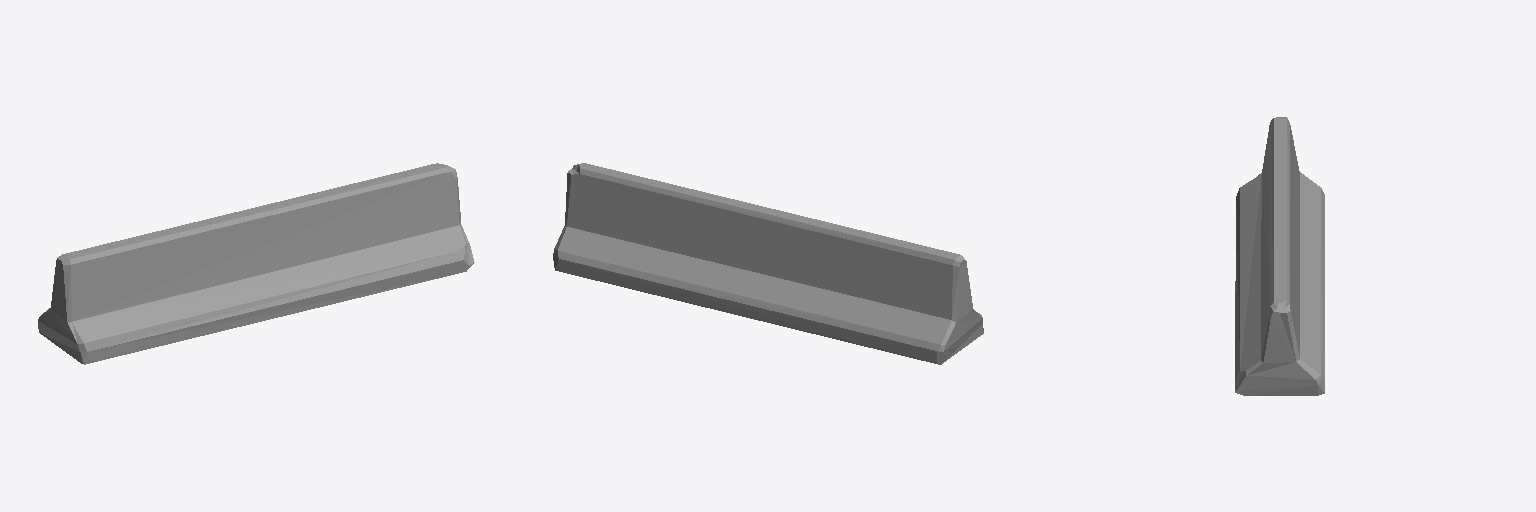
File: RoadBlock.obj
3 renders of one model, left to right at view 1: azimuth 30°, elevation 25°; view 2: azimuth 150°, elevation 25°; view 3: azimuth 270°, elevation 25°, orthographic.
Visible parts, largest first — view 1: concrete_roadblock_02; view 2: concrete_roadblock_02; view 3: concrete_roadblock_02.
Part boxes in pixels (x1,y1,x2,y2): concrete_roadblock_02: (38, 163, 474, 364); concrete_roadblock_02: (553, 163, 983, 364); concrete_roadblock_02: (1235, 117, 1324, 395).
Bounding box in the file's own units: 10.4 × 2.28 × 2.06.